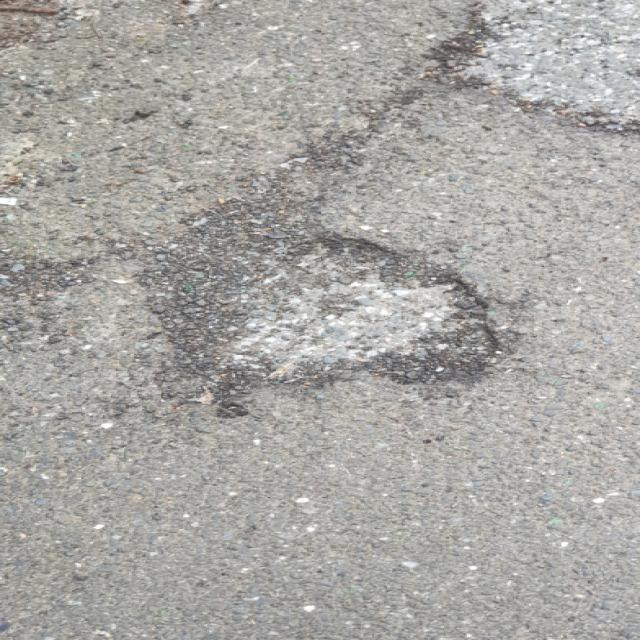pothole: (120, 221, 504, 396), (412, 0, 638, 137)
